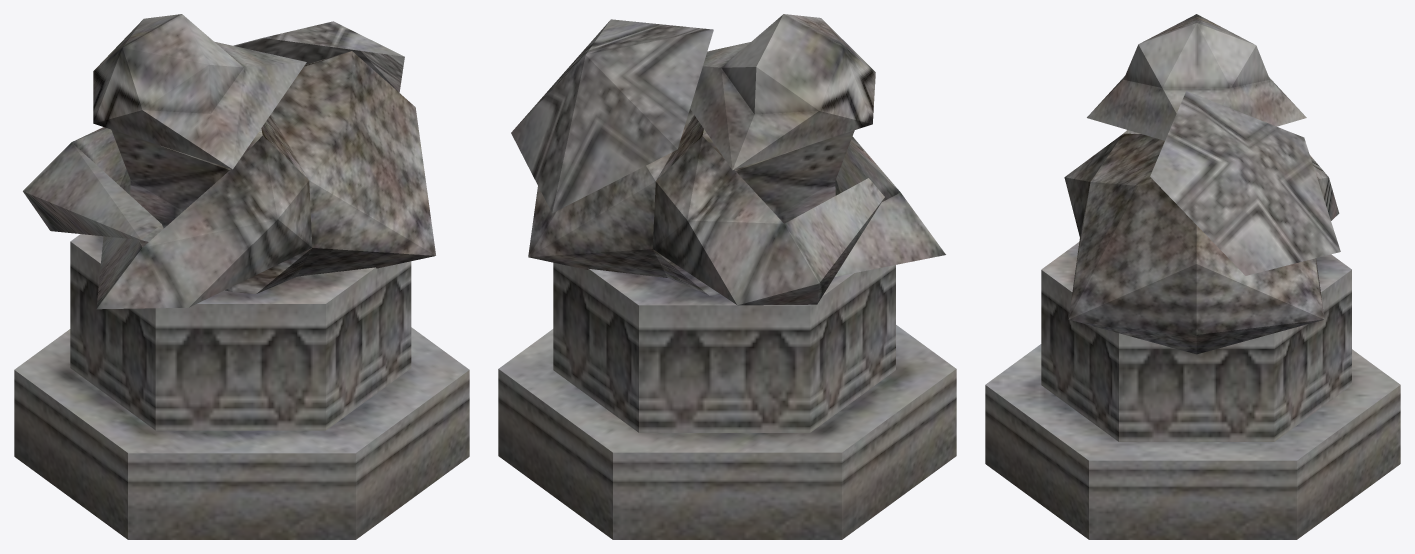
The model's file is 0HRD3D73Y8FDCDU8L33ANWPGQ.glb.
The picture shows the model from 3 angles, left to right: view 1: azimuth 30°, elevation 25°; view 2: azimuth 150°, elevation 25°; view 3: azimuth 270°, elevation 25°; orthographic projection. The views are drawn at different scales.
Size of the model in its own units: 2.11 by 2.5 by 2.27.
3 materials, 3 textured.
